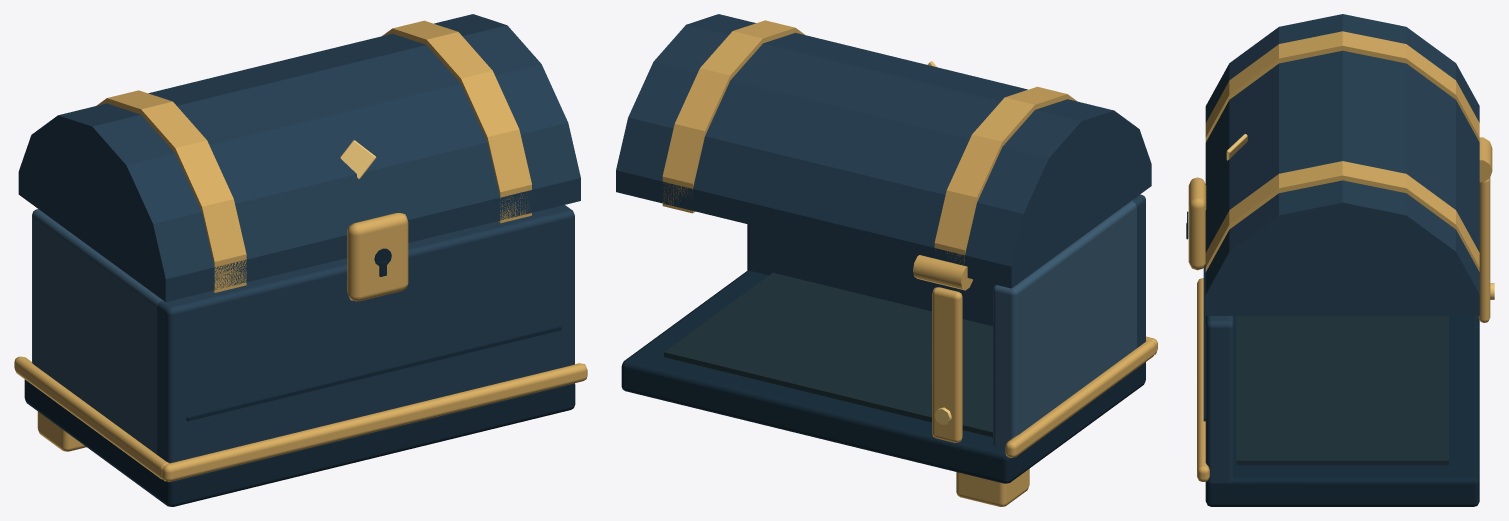
Rendered from quest-chest.dae.
3 renders of one model, left to right at view 1: azimuth 30°, elevation 25°; view 2: azimuth 150°, elevation 25°; view 3: azimuth 270°, elevation 25°, orthographic. The views are drawn at different scales.
Parts seen in each view (by area): view 1: Master_lid, Front_wall, Side_wall, Lid_brass_band (×2), Floor, Front_rim, Latch, Side_rim, Front_panel_seam, Foot, Diamond_hallmark; view 2: Master_lid, Interior_floor, Side_wall, Floor, Lid_brass_band (×2), Front_wall, Vertical_band, Side_rim, Foot, Hinge_pin; view 3: Master_lid, Interior_floor, Floor, Lid_brass_band (×2), Front_wall, Vertical_band, Latch, Front_rim, Hinge_pin, Front_panel_seam.
Part boxes in pixels (box(x1,y1,x2,y2)): Master_lid: box(18, 14, 580, 301); Front_wall: box(157, 205, 574, 481); Side_wall: box(32, 209, 163, 454); Lid_brass_band (×2): box(96, 20, 531, 292); Floor: box(24, 379, 575, 506); Front_rim: box(162, 363, 587, 481); Latch: box(347, 213, 408, 301); Side_rim: box(14, 356, 168, 479); Front_panel_seam: box(186, 326, 561, 421); Foot: box(37, 411, 86, 451); Diamond_hallmark: box(340, 140, 376, 179); Master_lid: box(616, 14, 1151, 288); Interior_floor: box(664, 272, 992, 437); Side_wall: box(993, 200, 1136, 448); Floor: box(621, 270, 1145, 483); Lid_brass_band (×2): box(662, 20, 1077, 264); Front_wall: box(747, 194, 1145, 347); Vertical_band: box(932, 287, 962, 442); Side_rim: box(1005, 340, 1155, 457); Foot: box(956, 469, 1029, 506); Hinge_pin: box(913, 255, 972, 290); Master_lid: box(1205, 14, 1479, 315); Interior_floor: box(1236, 316, 1448, 465); Floor: box(1205, 316, 1479, 506); Lid_brass_band (×2): box(1205, 31, 1479, 271); Front_wall: box(1205, 316, 1233, 483); Vertical_band: box(1478, 178, 1490, 322); Latch: box(1188, 177, 1206, 270); Front_rim: box(1197, 278, 1209, 481); Hinge_pin: box(1479, 137, 1492, 182); Front_panel_seam: box(1203, 264, 1205, 421).
Bounding box in the file's own units: 1.93 × 1.59 × 1.31.
